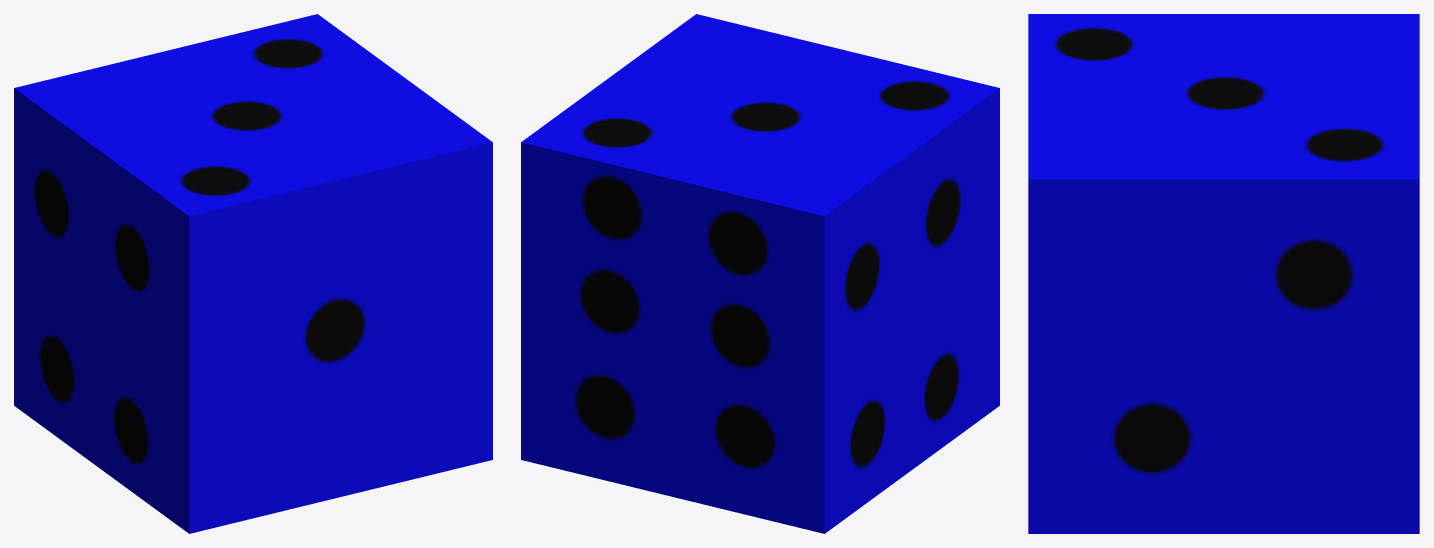
Rendered from Dice.fbx.
The picture shows the model from 3 angles, left to right: view 1: azimuth 30°, elevation 25°; view 2: azimuth 150°, elevation 25°; view 3: azimuth 270°, elevation 25°; orthographic projection. The views are drawn at different scales.
Parts seen in each view (by area): view 1: pCube3; view 2: pCube3; view 3: pCube3.
Boxes of the visible parts, x1,y1,x2,y2 form: pCube3: [14, 14, 492, 533]; pCube3: [521, 14, 999, 533]; pCube3: [1028, 14, 1419, 533].
Size of the model in its own units: 1 by 1 by 1.
Materials: 1 (1 with a texture image).
